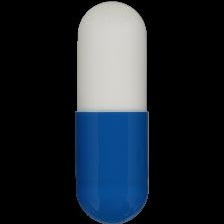17856-0377: (0, 0, 224, 224)
